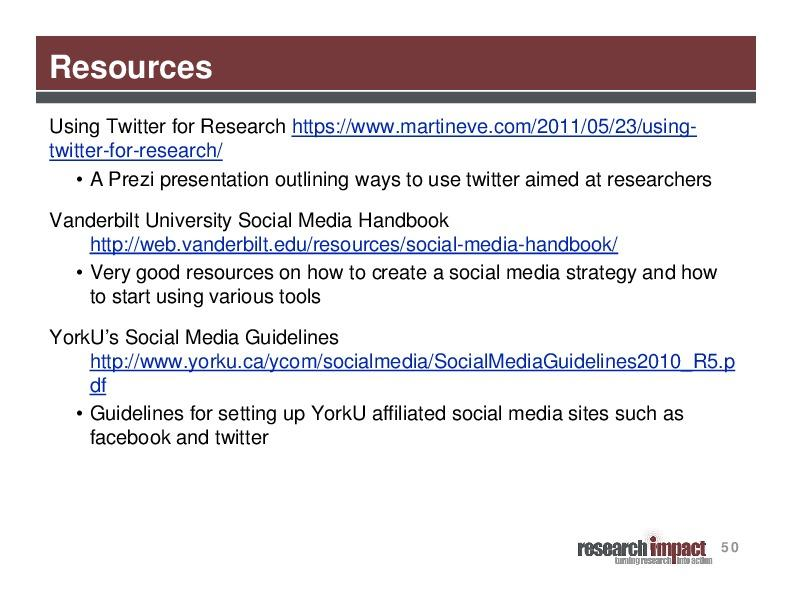paragraph: (39, 101, 781, 460)
subtitle: (570, 527, 740, 572)
title: (44, 44, 220, 100)
